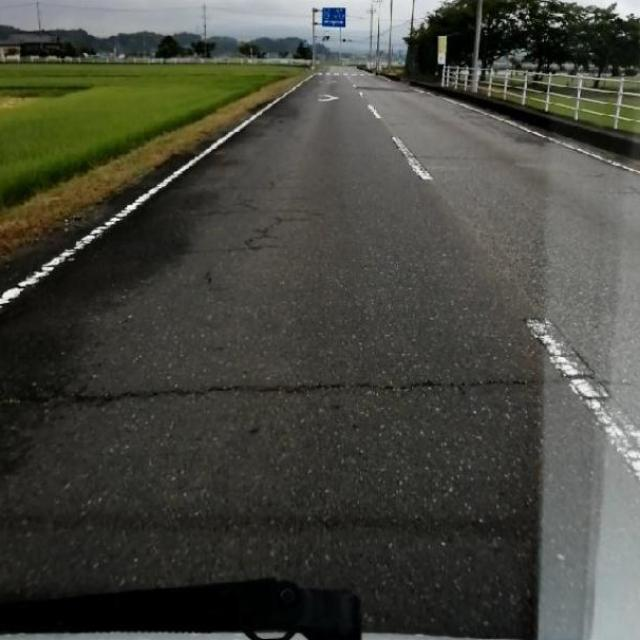Melintang: (82, 358, 614, 415)
